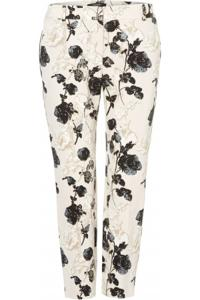C_W_pants: (36, 2, 164, 299)
